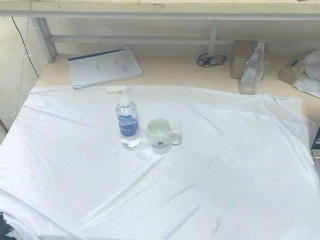bottle: (238, 41, 265, 95), (116, 95, 141, 150)
box: (230, 34, 272, 81), (278, 53, 306, 85)
cup: (146, 116, 184, 151)
